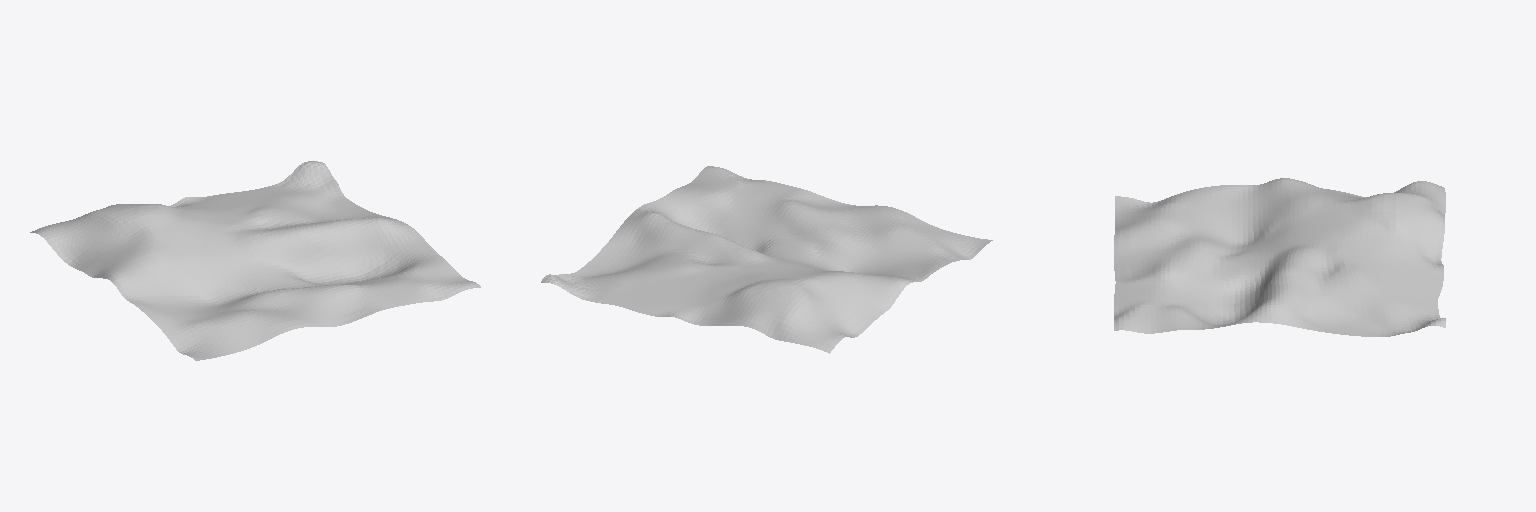
Rendered from terrain.obj.
The picture shows the model from 3 angles: view 1: azimuth 30°, elevation 25°; view 2: azimuth 150°, elevation 25°; view 3: azimuth 270°, elevation 25°; orthographic projection.
Parts seen in each view (by area): view 1: Terrain_Plane; view 2: Terrain_Plane; view 3: Terrain_Plane.
Boxes of the visible parts, x1,y1,x2,y2 form: Terrain_Plane: [30, 161, 480, 360]; Terrain_Plane: [541, 166, 992, 353]; Terrain_Plane: [1114, 178, 1445, 336].
Size of the model in its own units: 20.32 by 3.1 by 20.17.